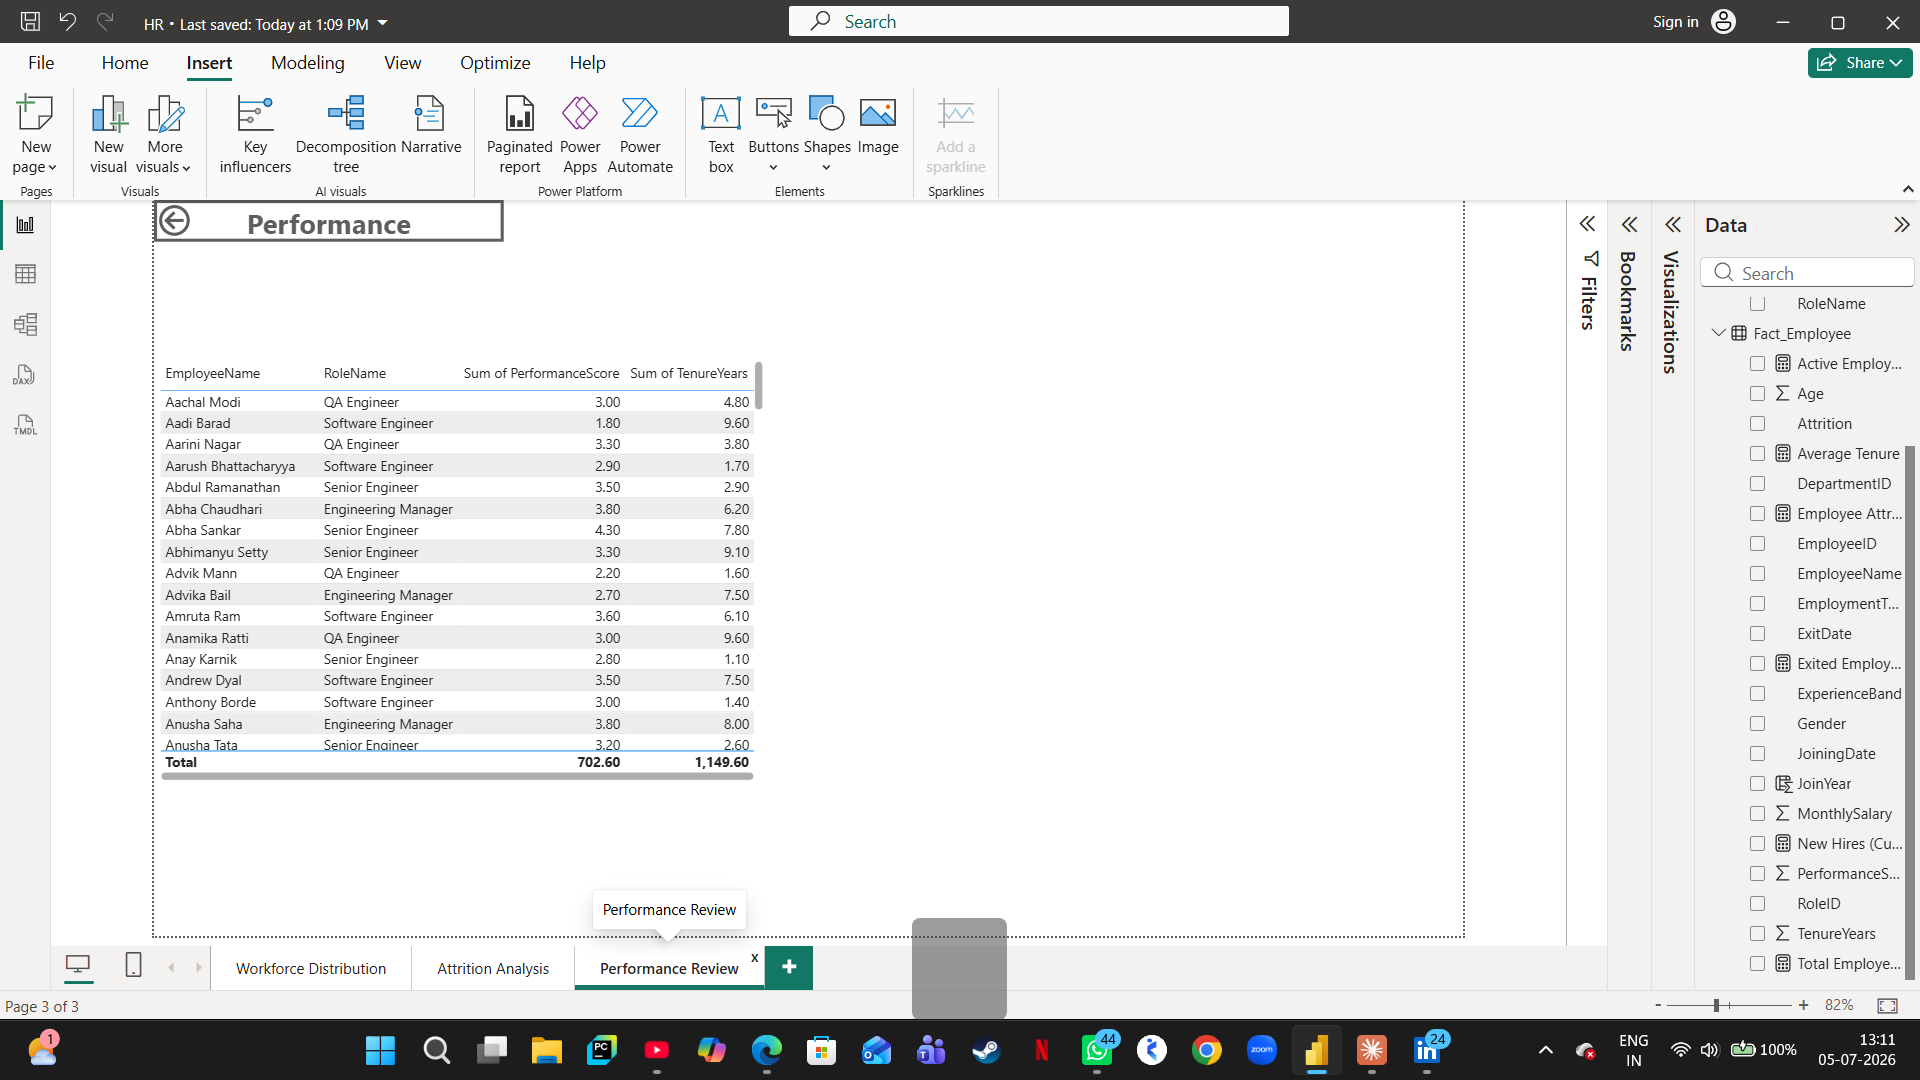

Layout of this report page (visuals, bound fields, positions):
{"tool":"powerbi","page":{"name":"Performance Review","canvas":[1280,720],"ordinal":2},"visuals":[{"type":"actionButton","box":[0,0,100,40],"z":0},{"type":"tableEx","fields":{"Values":["Fact_Employee.EmployeeName","Dim_Role.RoleName","Sum(Fact_Employee.PerformanceScore)","Sum(Fact_Employee.TenureYears)"]},"box":[0,153.2,600.9,420.4],"z":1},{"type":"actionButton","box":[0,0,342.1,40.9],"z":2}]}

Visuals, with their boxes on the page's 1280x720 design canvas (x1, y1, x2, y2). These are canvas units, not pixel positions in the 1920x1080 screenshot, which may show the page scaled, cropped or inside an application window:
actionButton: 0 0 100 40
tableEx - Fact_Employee.EmployeeName x Dim_Role.RoleName: 0 153 601 574
actionButton: 0 0 342 41
